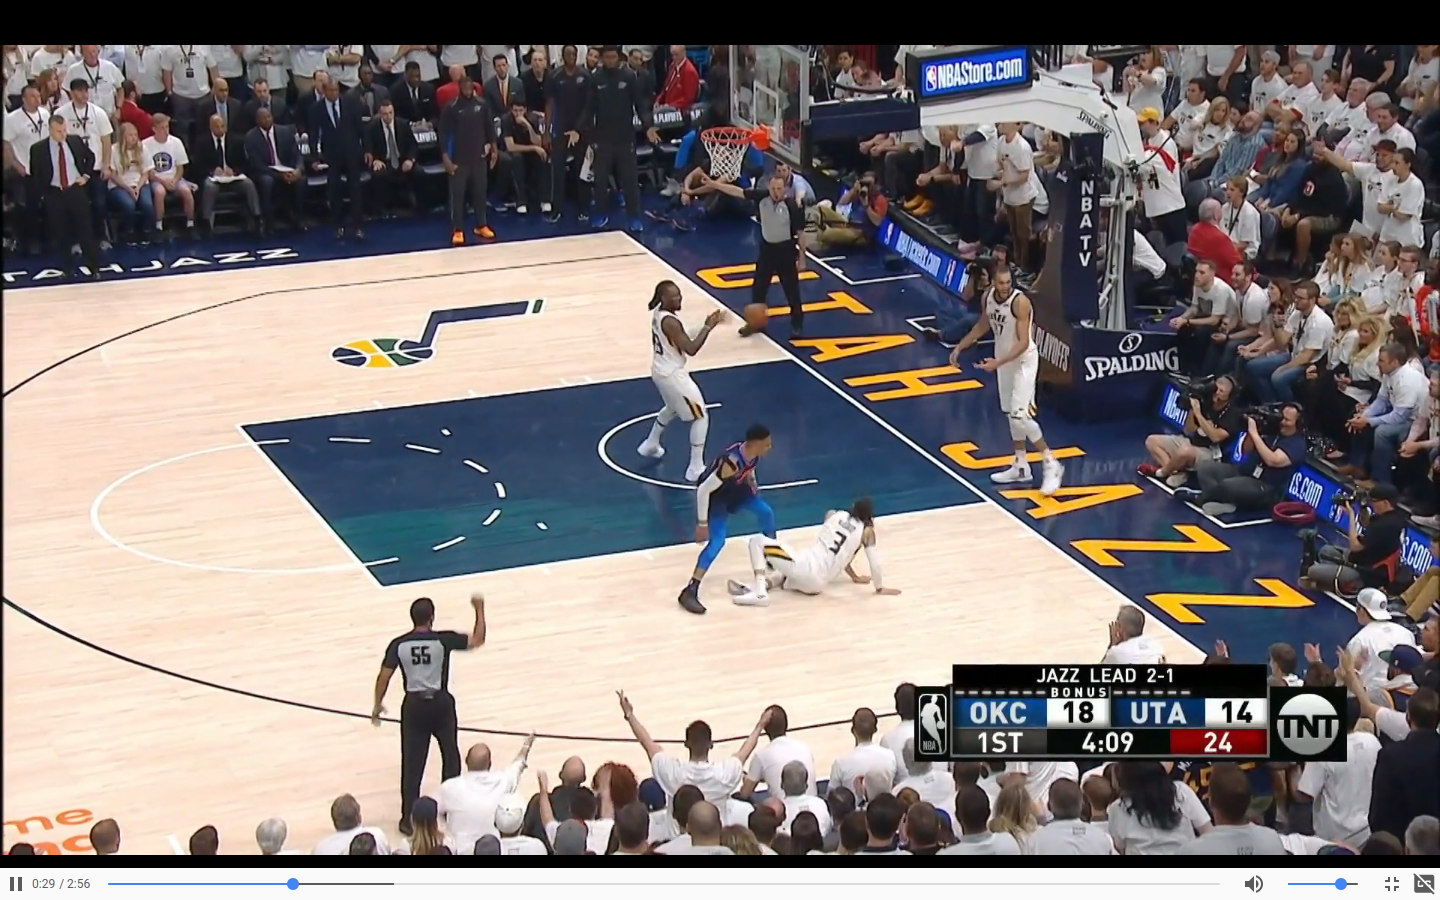basketball: (741, 297, 776, 332)
basketball player: (958, 265, 1072, 506), (678, 423, 796, 626), (730, 499, 908, 612), (633, 274, 719, 480)
referee: (361, 583, 496, 831), (701, 159, 812, 329)
